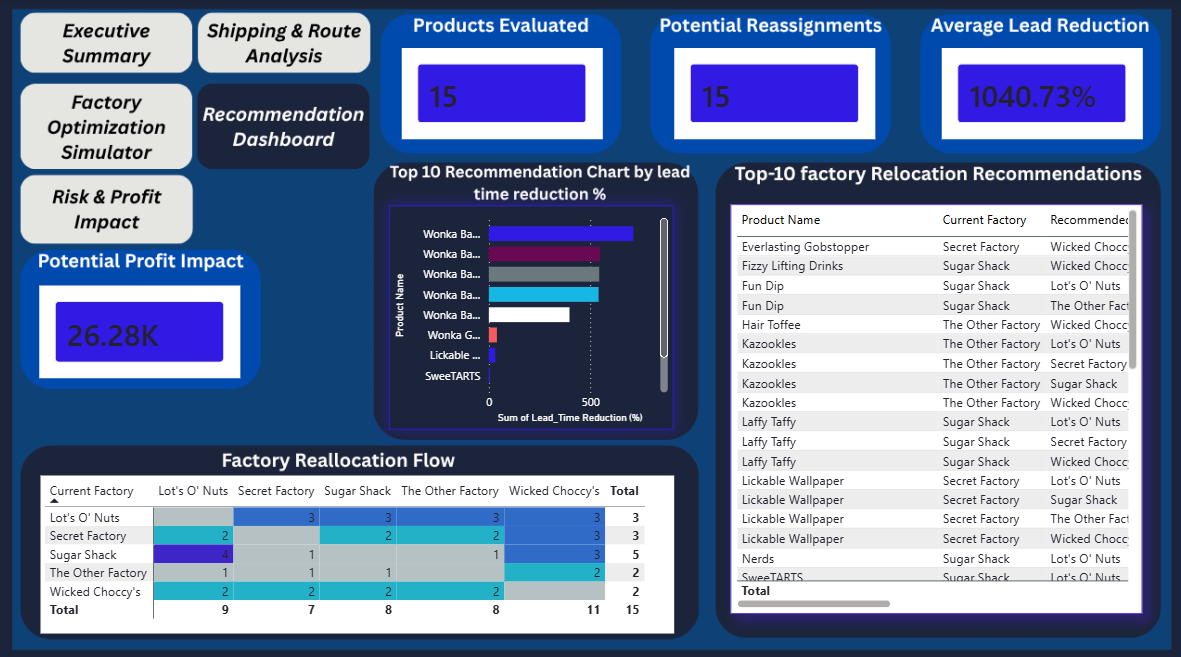

Layout of this report page (visuals, bound fields, positions):
{"tool":"powerbi","page":{"name":"Recommendation Dashboard","canvas":[1280,720],"ordinal":4},"visuals":[{"type":"cardVisual","fields":{"Data":["Speed Priority.Products Evaluated"]},"box":[435,53.5,216.8,98.8],"z":0},{"type":"cardVisual","fields":{"Data":["reassignment_recommendations.Potential Reassignments"]},"box":[728.5,53.3,216.7,98.4],"z":1000},{"type":"cardVisual","fields":{"Data":["reassignment_recommendations.Average Lead Reduction %"]},"box":[1016.8,53.5,216.8,98.8],"z":2000},{"type":"cardVisual","fields":{"Data":["reassignment_recommendations.Potential Profit Impact"]},"box":[45,310.1,216.7,100],"z":3000},{"type":"clusteredBarChart","fields":{"Y":["Sum(reassignment_recommendations.Lead_Time Reduction (%))"],"Category":["reassignment_recommendations.Product Name"]},"box":[421.7,223.3,306.7,241.7],"z":4000},{"type":"tableEx","fields":{"Values":["reassignment_recommendations.Product Name","reassignment_recommendations.Current Factory","reassignment_recommendations.Recommended Factory","Sum(reassignment_recommendations.Lead_Time)","Sum(reassignment_recommendations.Recommended Predicted Lead_Time)","Sum(reassignment_recommendations.Lead_Time Reduction (%))"]},"box":[790,222.9,444.3,441.4],"z":5000},{"type":"pivotTable","fields":{"Rows":["reassignment_recommendations.Current Factory"],"Columns":["reassignment_recommendations.Recommended Factory"],"Values":["reassignment_recommendations.Recommended Products Count"]},"box":[45.7,514.3,682.9,170],"z":6000},{"type":"actionButton","box":[29.6,13.5,179.2,68.7],"z":6001},{"type":"actionButton","box":[218.3,20.2,181.9,62],"z":6002},{"type":"actionButton","box":[29.6,93,179.2,93],"z":6003},{"type":"actionButton","box":[29.6,190,179.2,74.1],"z":6004}]}

Visuals, with their boxes in screenshot pixels (x1, y1, x2, y2), scaled from the page's 1280x720 canvas onto the 1181x657 screenshot:
cardVisual - Speed Priority.Products Evaluated: [left=401, top=49, right=601, bottom=139]
cardVisual - reassignment_recommendations.Potential Reassignments: [left=672, top=49, right=872, bottom=138]
cardVisual - reassignment_recommendations.Average Lead Reduction %: [left=938, top=49, right=1138, bottom=139]
cardVisual - reassignment_recommendations.Potential Profit Impact: [left=42, top=283, right=241, bottom=374]
clusteredBarChart - Sum(reassignment_recommendations.Lead_Time Reduction (%)) x reassignment_recommendations.Product Name: [left=389, top=204, right=672, bottom=424]
tableEx - reassignment_recommendations.Product Name x reassignment_recommendations.Current Factory: [left=729, top=203, right=1139, bottom=606]
pivotTable - reassignment_recommendations.Current Factory x reassignment_recommendations.Recommended Factory: [left=42, top=469, right=672, bottom=624]
actionButton: [left=27, top=12, right=193, bottom=75]
actionButton: [left=201, top=18, right=369, bottom=75]
actionButton: [left=27, top=85, right=193, bottom=170]
actionButton: [left=27, top=173, right=193, bottom=241]
